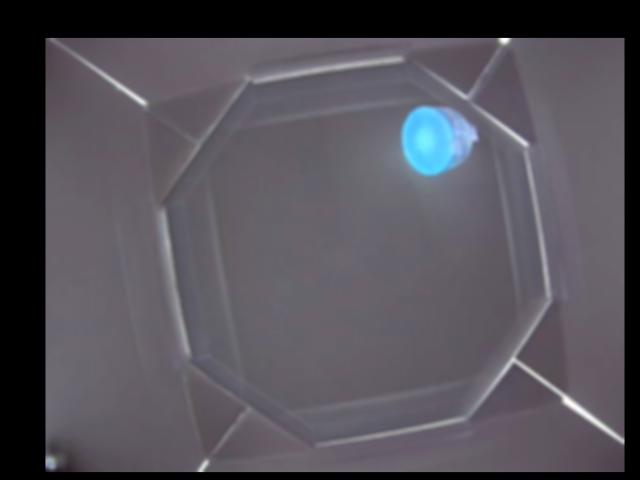Carrot: (401, 106, 476, 174)
